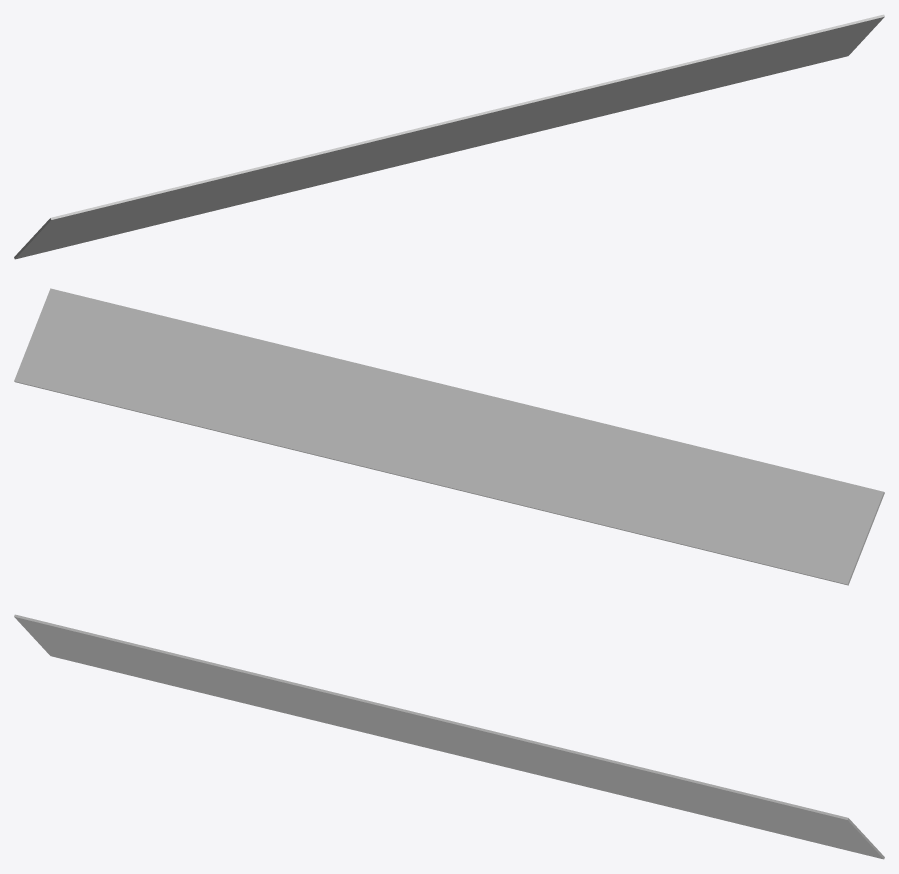
Rendered from Itr_Airconditioner3_Wing1_01.FBX.
3 renders of one model, top to bottom at view 1: azimuth 30°, elevation 25°; view 2: azimuth 150°, elevation 25°; view 3: azimuth 330°, elevation 25°, orthographic.
Parts seen in each view (by area): view 1: Itr_Airconditioner3_Wing1_01; view 2: Itr_Airconditioner3_Wing1_01; view 3: Itr_Airconditioner3_Wing1_01.
Boxes of the visible parts, <box> form: Itr_Airconditioner3_Wing1_01: <box>14,14,884,259</box>; Itr_Airconditioner3_Wing1_01: <box>14,288,884,585</box>; Itr_Airconditioner3_Wing1_01: <box>14,614,884,859</box>.
Bounding box in the file's own units: 51.51 × 4 × 4.
